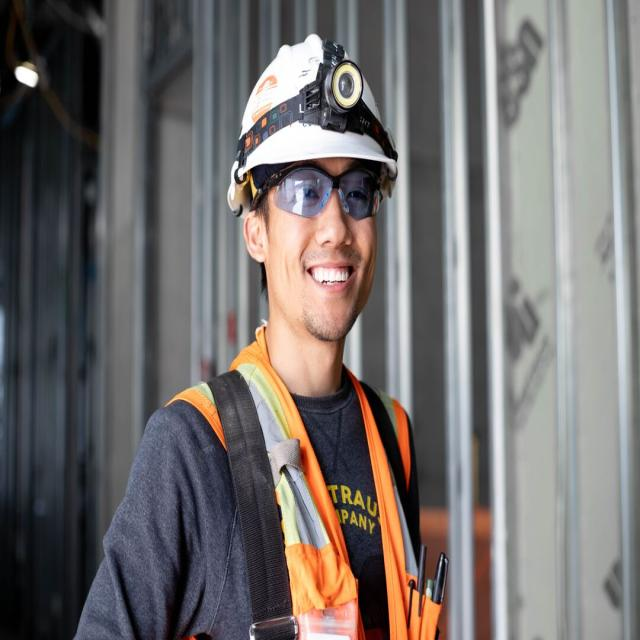goggles: (268, 164, 391, 222)
helmet: (234, 45, 399, 181)
vest: (168, 332, 425, 640)
